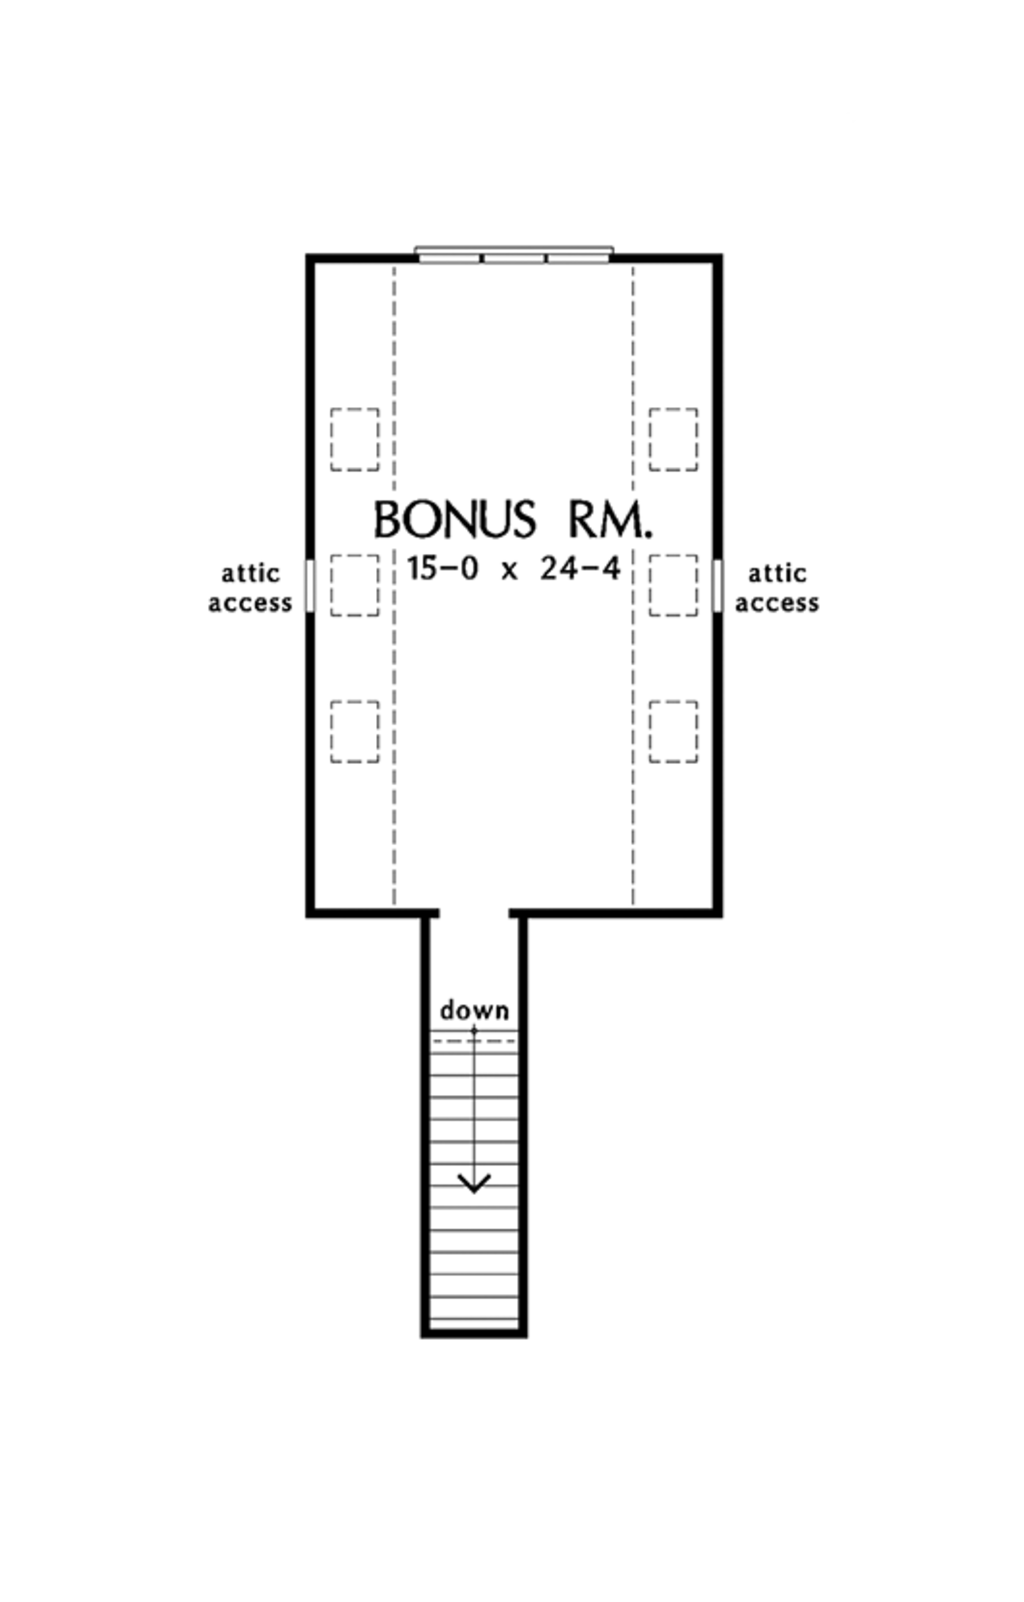stairs: (417, 903, 524, 1371)
window: (417, 242, 615, 264), (298, 560, 322, 620), (717, 556, 727, 631)
